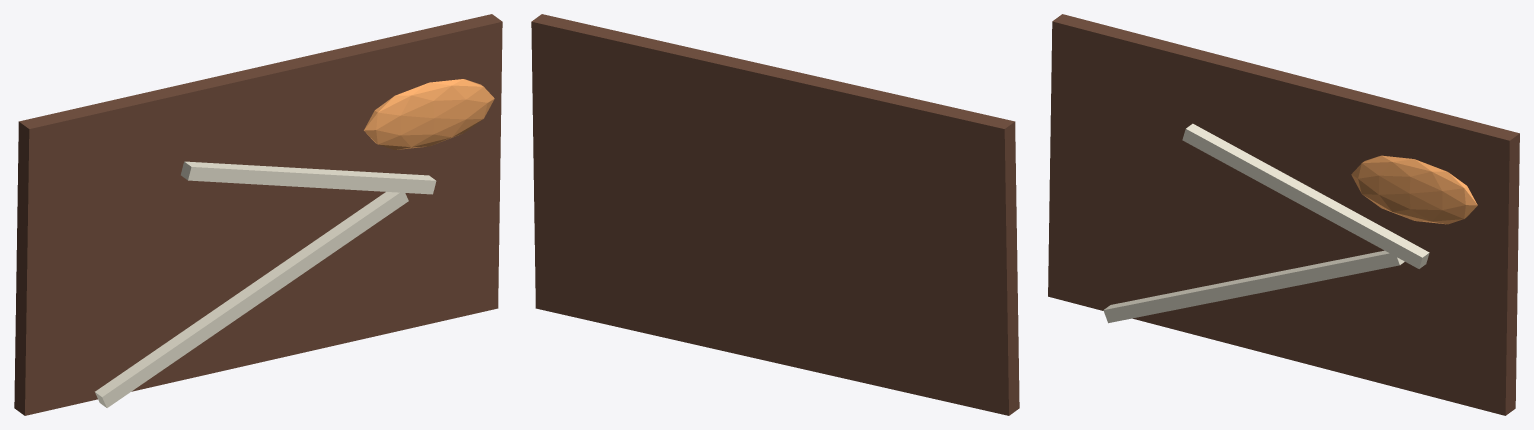
File: 04_weathering_wear_overlay_4.glb
3 views of the same model, side by side, from view 1: azimuth 30°, elevation 25°; view 2: azimuth 150°, elevation 25°; view 3: azimuth 330°, elevation 25° (orthographic). The views are drawn at different scales.
Visible parts, largest first — view 1: wear_plate, scratch_a, rust_or_moss_spot, scratch_b; view 2: wear_plate; view 3: wear_plate, rust_or_moss_spot, scratch_b, scratch_a.
Part boxes in pixels (x1,y1,x2,y2): wear_plate: (14, 14, 502, 415); scratch_a: (95, 192, 408, 407); rust_or_moss_spot: (364, 79, 494, 149); scratch_b: (181, 161, 436, 194); wear_plate: (531, 14, 1019, 415); wear_plate: (1048, 14, 1519, 415); rust_or_moss_spot: (1351, 155, 1477, 224); scratch_b: (1182, 123, 1429, 268); scratch_a: (1103, 250, 1404, 323).
Size of the model in its own units: 1.31 by 0.7709 by 0.134.
